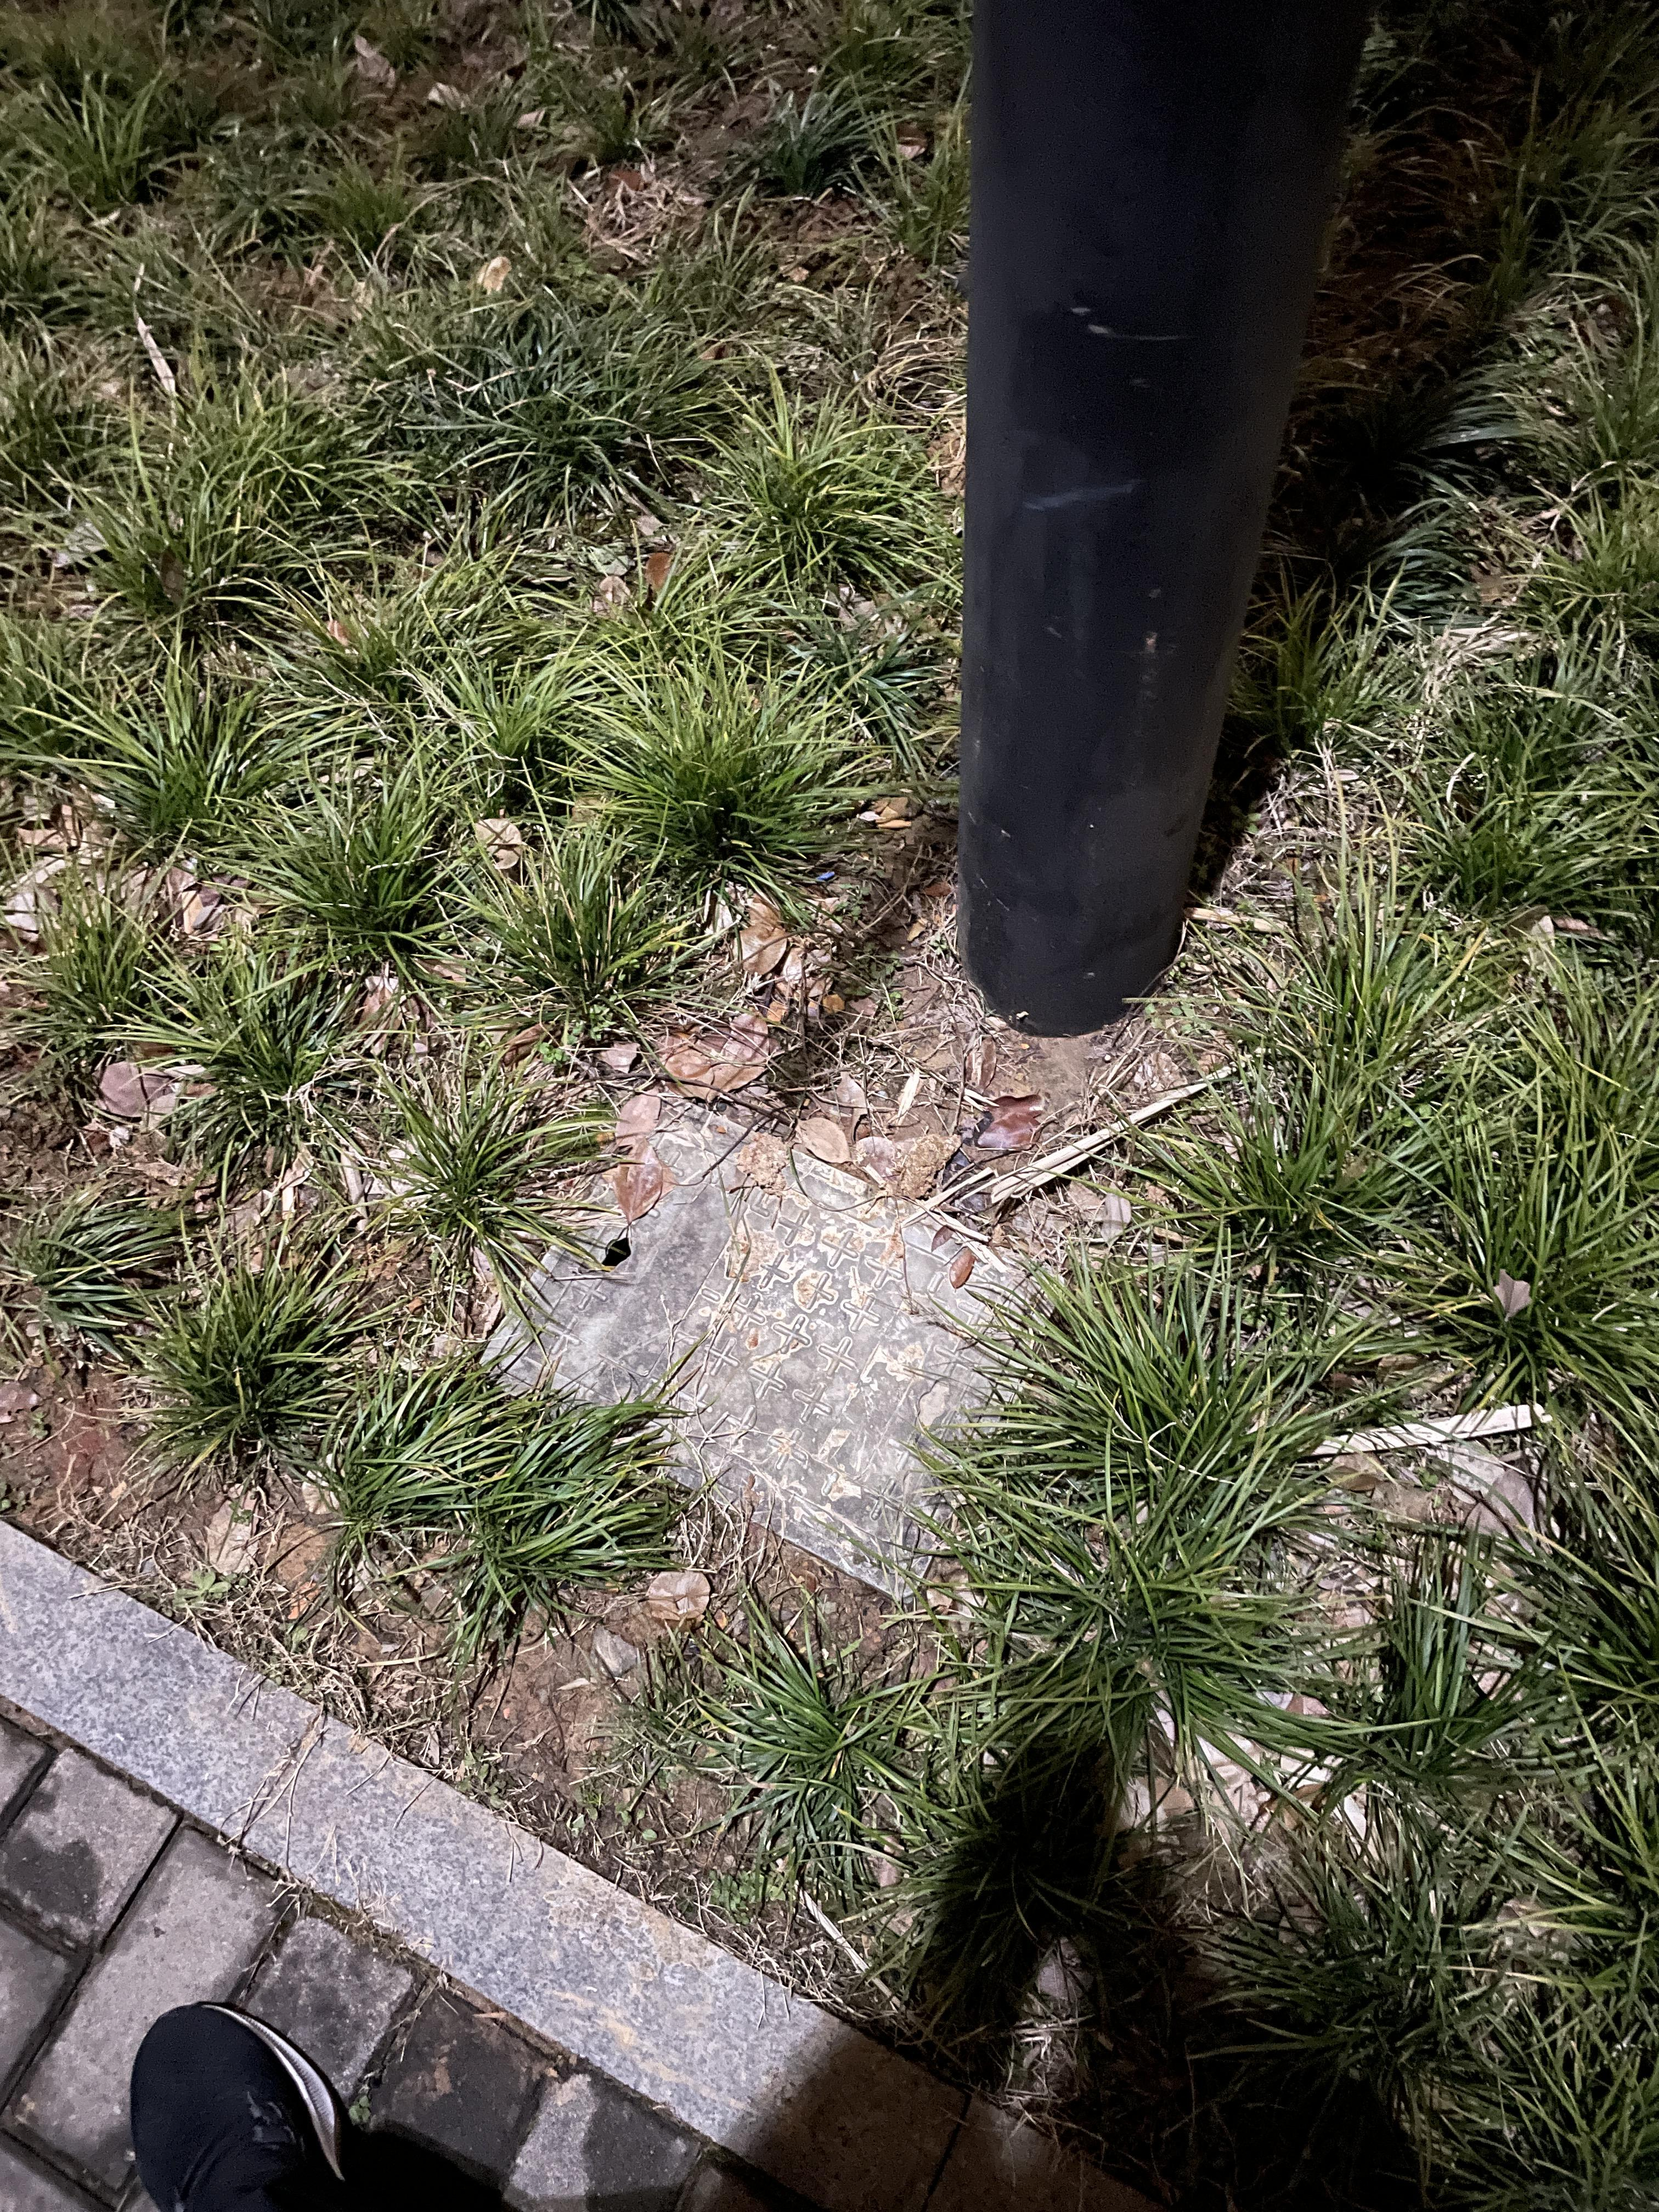wellcover: (450, 1096, 1082, 1606)
